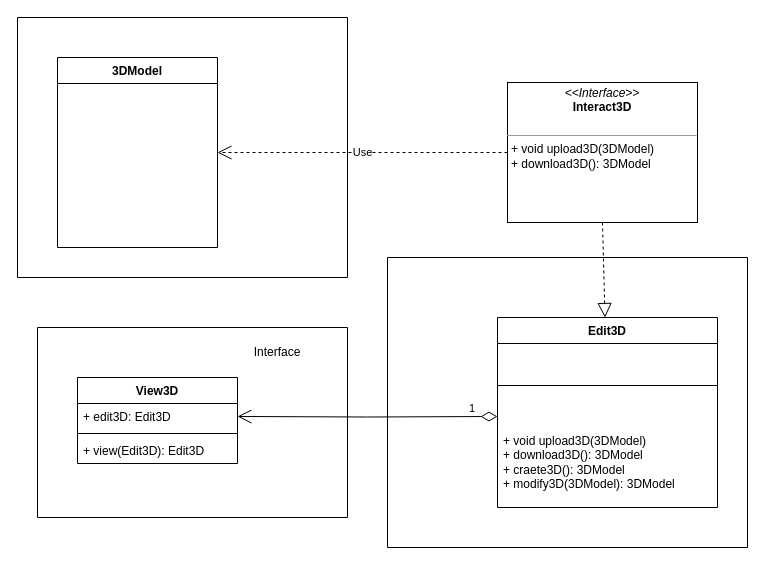
Image size: 765x565. Some labels were removed from this diagram. Each missing label, with the centre of its shape:
Business logic: the point at 567,402
DataBase: the point at 182,147
